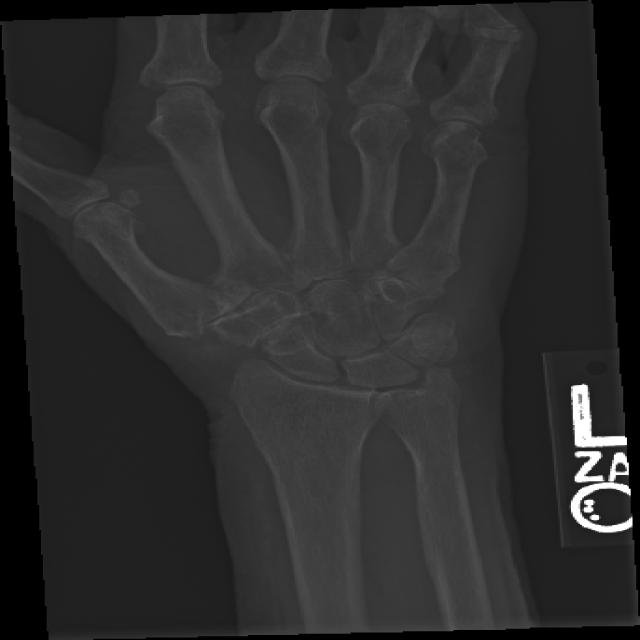wrist positive: (206, 373, 399, 442)
